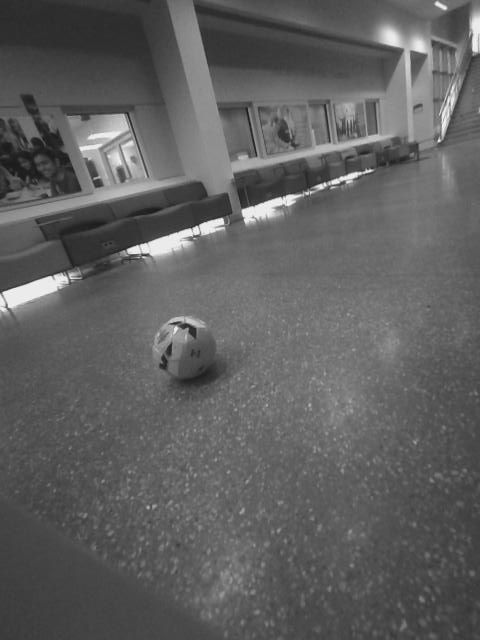ball: (143, 312, 223, 387)
